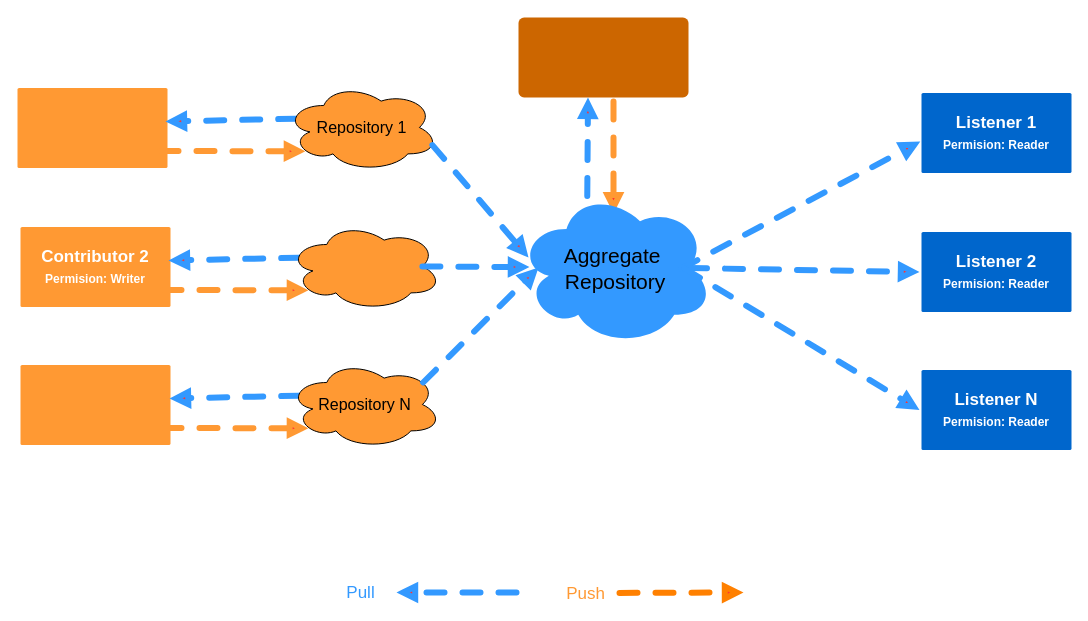
This 1088x621 diagram has some shape labels left out. The box of each missing label's shape, as (x1, y1, x2, y2) in pixels:
Administrator Permision: Organizer: (518, 17, 688, 97)
Contributor 1 Permision: Writer: (17, 88, 167, 168)
Contributor N Permision: Writer: (20, 364, 170, 444)
Repository 2: (288, 222, 442, 310)
